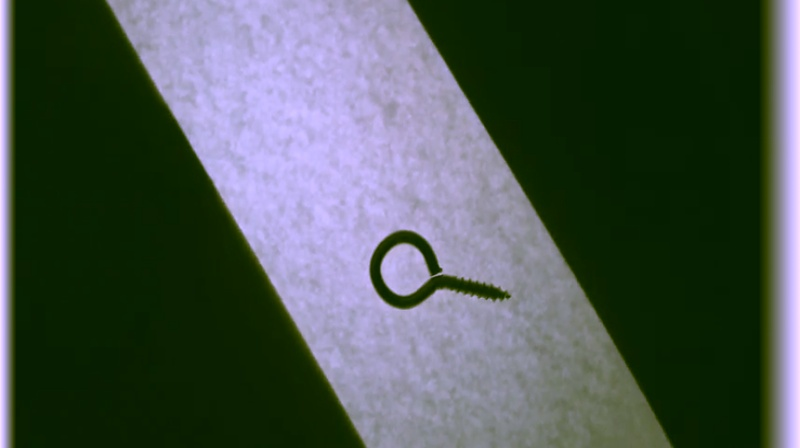O001: (366, 224, 513, 315)
